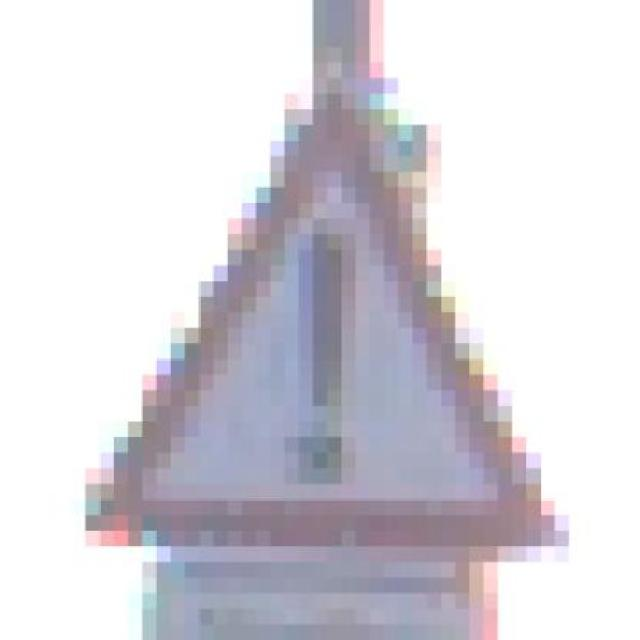Attention Please-: (58, 66, 584, 582)
